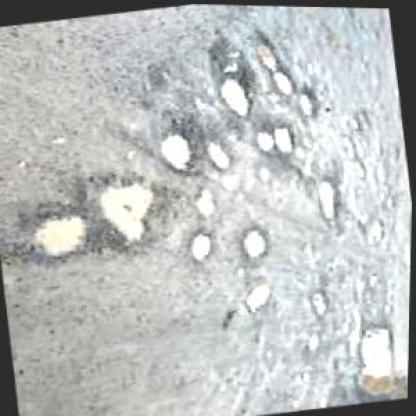pothole: (97, 174, 166, 249), (354, 322, 405, 395), (30, 210, 96, 264), (155, 125, 201, 176), (219, 74, 259, 120), (251, 28, 284, 74), (316, 175, 345, 223), (205, 136, 237, 173), (244, 281, 279, 312), (243, 226, 273, 258), (298, 86, 325, 118), (190, 230, 216, 262), (194, 186, 221, 216), (273, 68, 300, 96), (274, 122, 296, 154), (312, 287, 333, 316), (255, 126, 276, 153)
